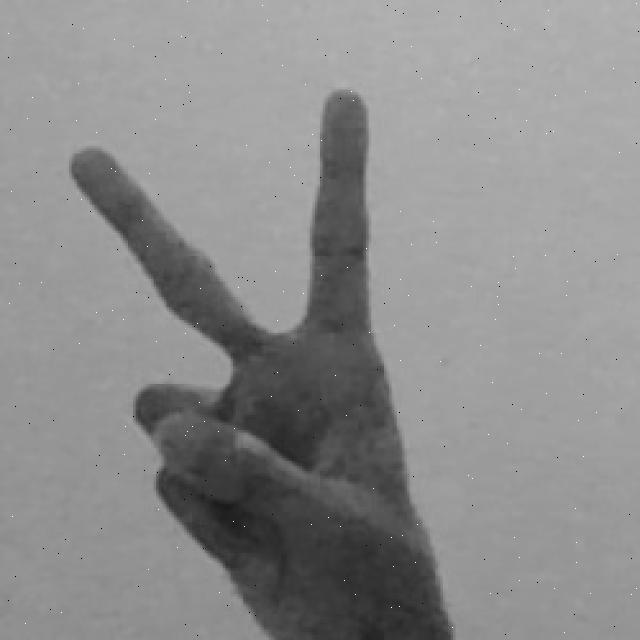V: (68, 77, 453, 640)
